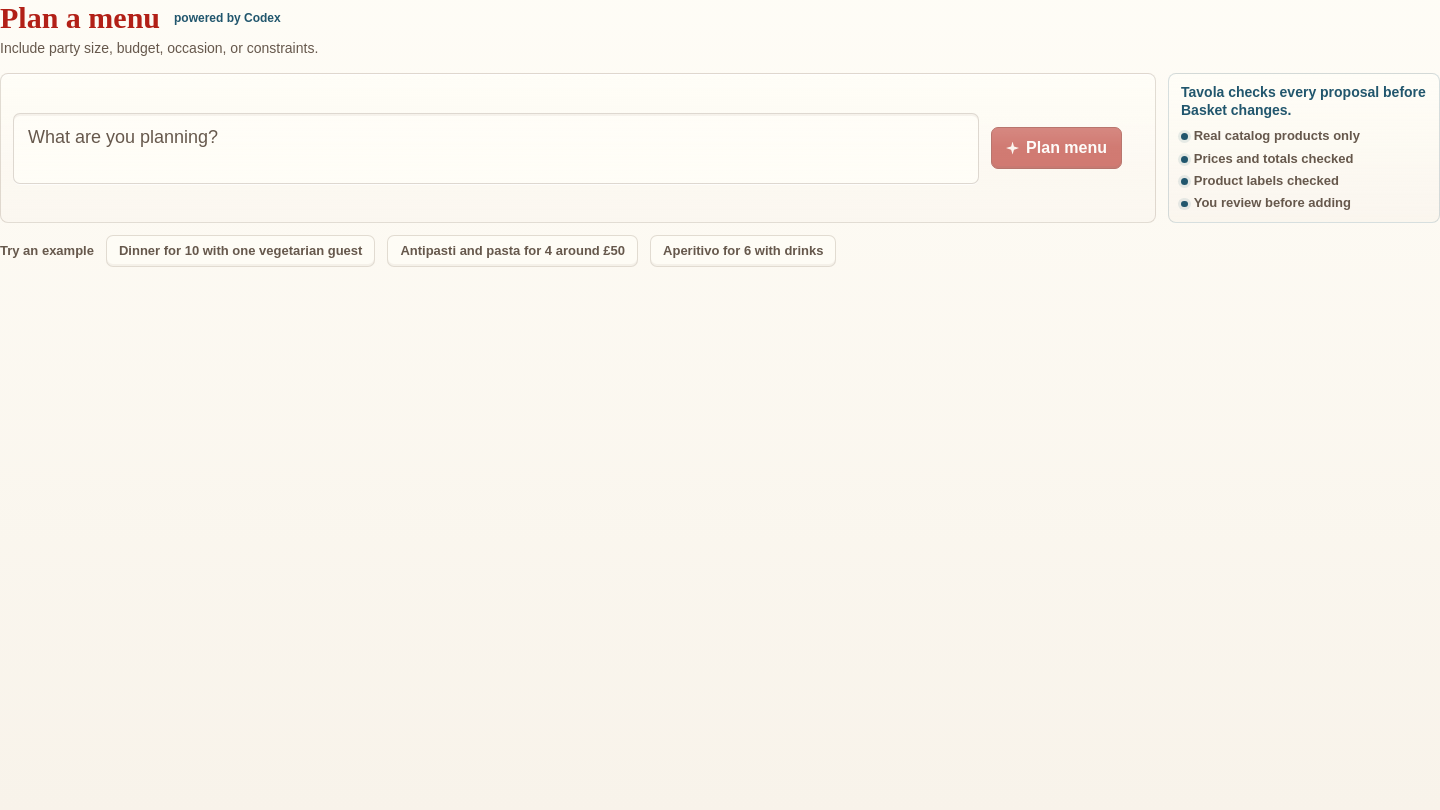
Scenario: PlannerWorkspace › keeps proposal basket actions visible near the top of review
Type "Vegetarian dinner for 4 around £50" into the text box named "Meal request".
click(496, 148); type("Vegetarian dinner for 4 around £50")  # box [13,113,979,184]
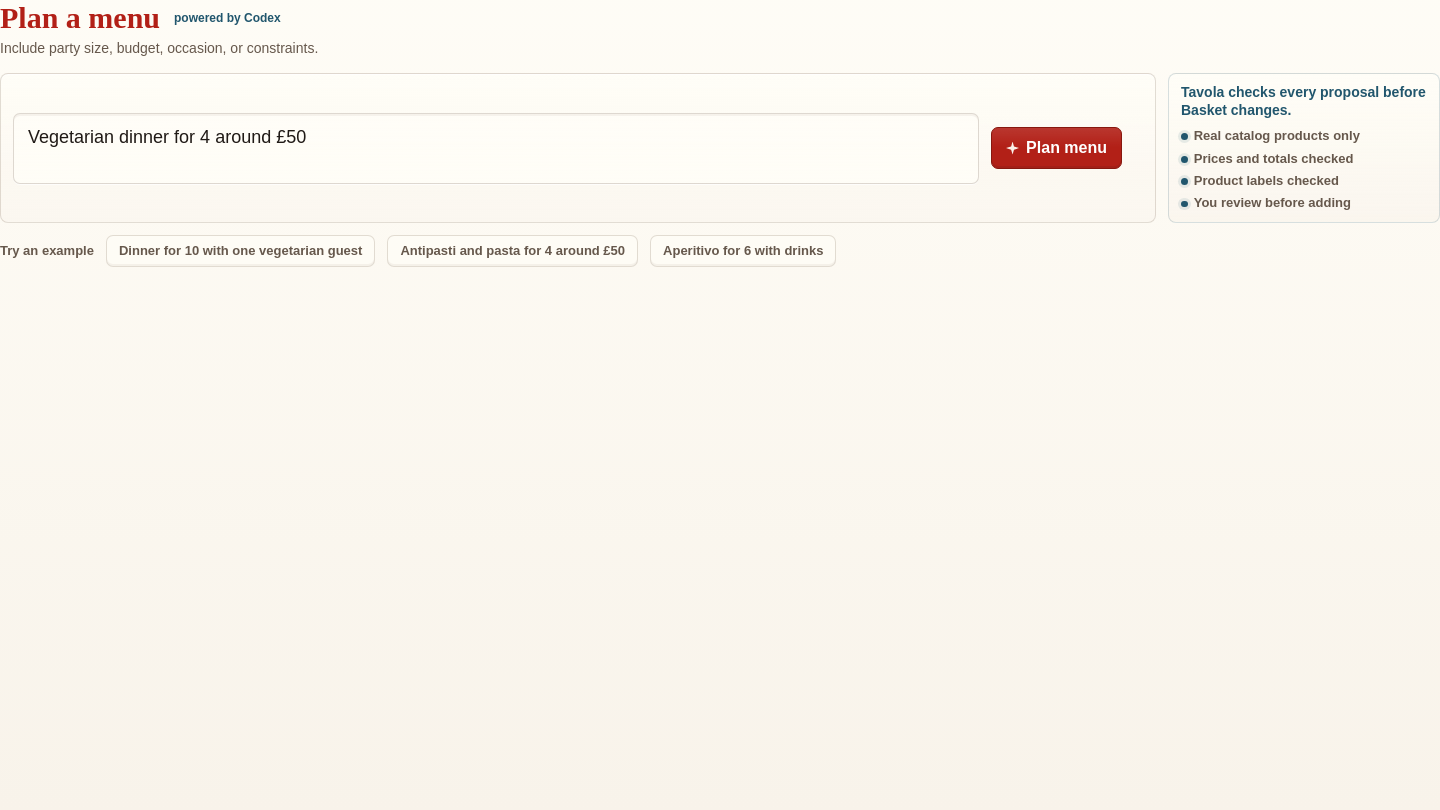
Click the button "Plan menu".
click(1056, 148)  # box [991,127,1122,169]
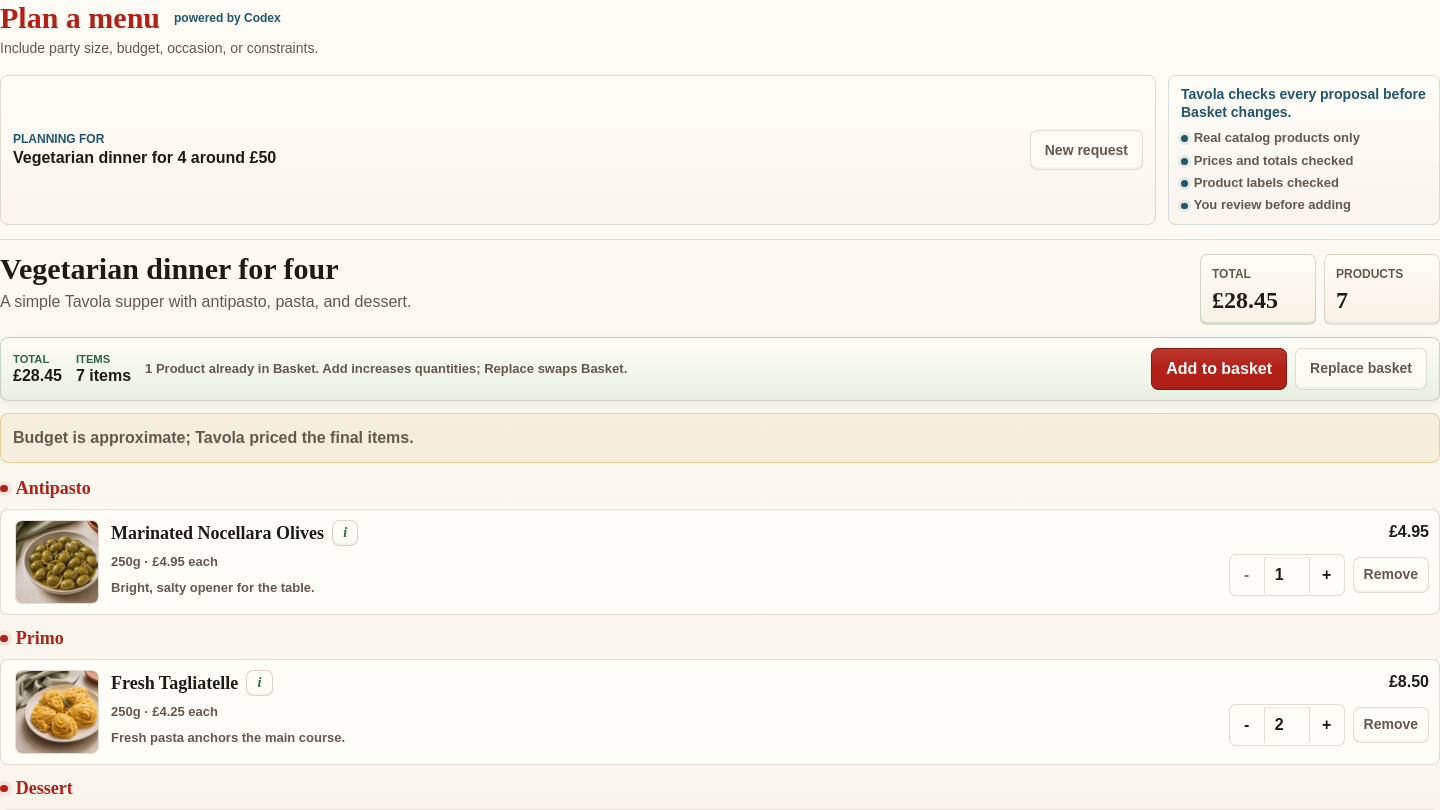
Now the element named "Proposal basket actions" shows "£28.45", box [13,367,62,384]
Now the element named "Proposal basket actions" shows "7 items", box [0,337,1439,401]
Now the element named "Proposal basket actions" shows "1 Product already in Basket. Add increases quantities; Replace swaps Basket.", box [145,361,627,376]
Click the button with aria-label "Replace basket with proposal".
click(1361, 369)  # box [1295,348,1427,390]
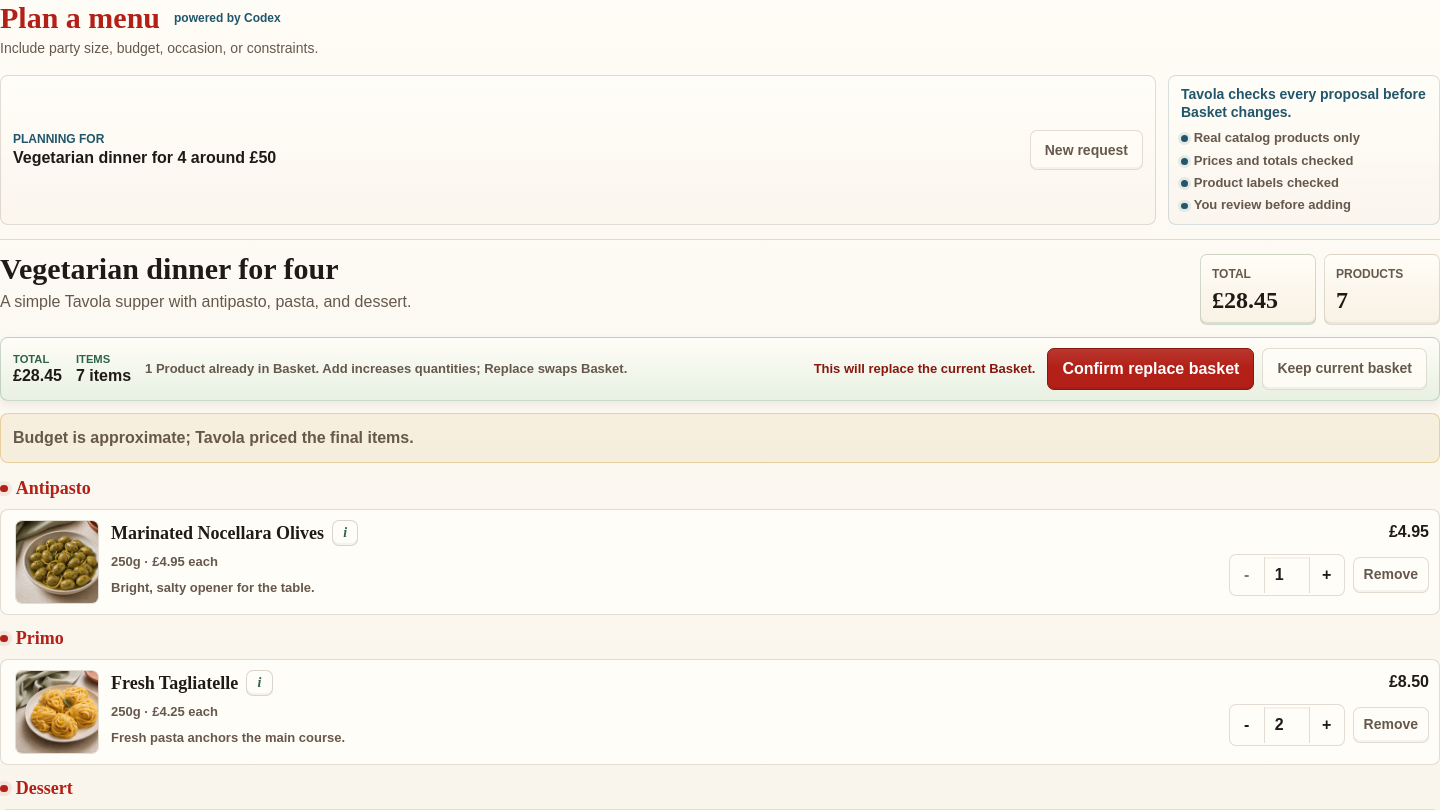
Now the element named "Proposal basket actions" shows "This will replace the current Basket.", box [814,361,1035,376]
Now the button "Confirm replace basket" is shown, box [1047,348,1254,390]
Now the button "Keep current basket" is shown
Click the button "Keep current basket".
click(1345, 369)  # box [1262,348,1427,390]
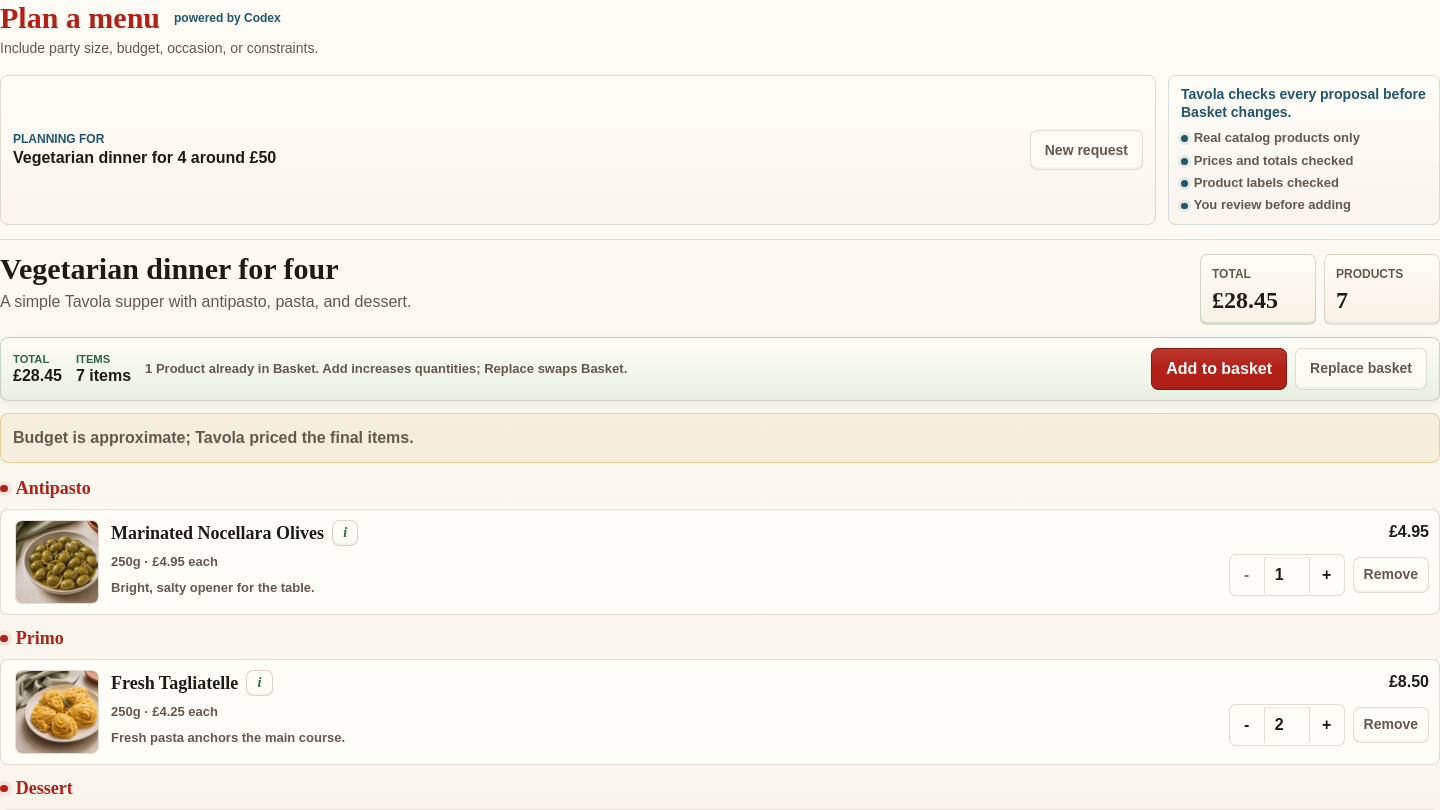
Now the button with aria-label "Replace basket with proposal" reads "Replace basket", box [1295,348,1427,390]
